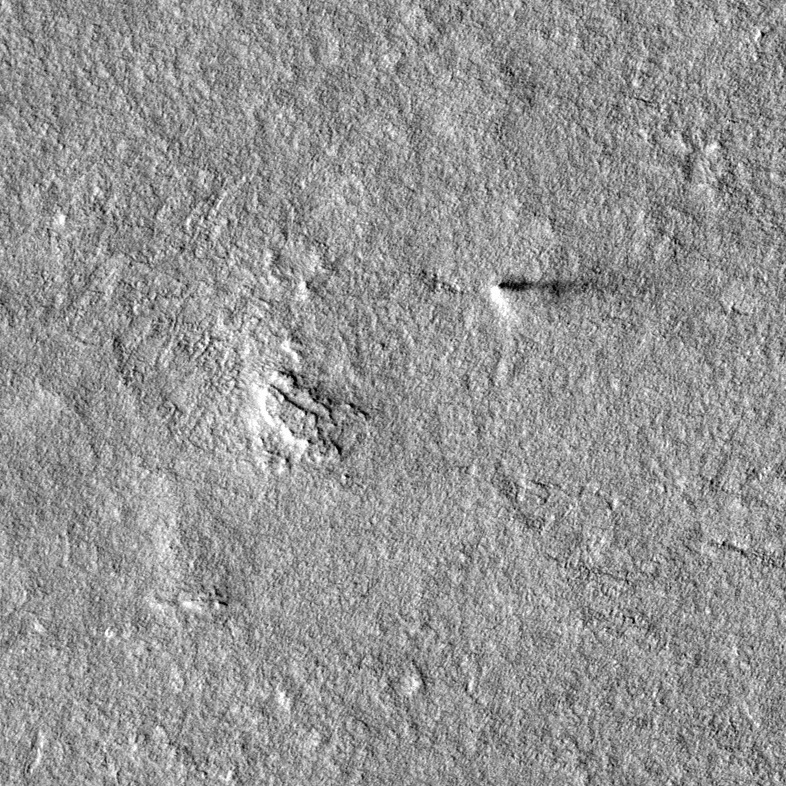dust_devil: (486, 272, 594, 326)
